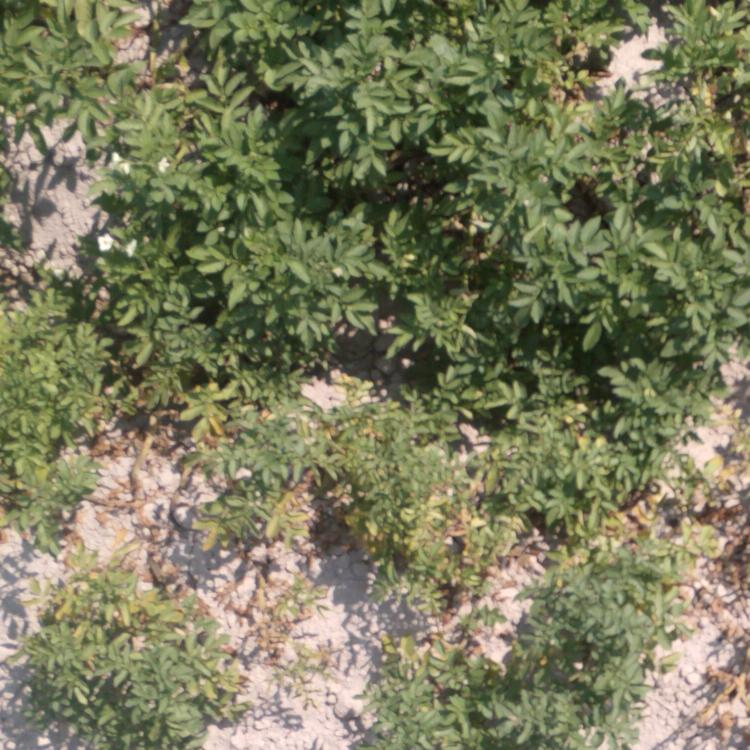healthy: (121, 102, 301, 362), (313, 119, 487, 387), (178, 2, 552, 107), (516, 212, 722, 373), (653, 1, 744, 191), (11, 15, 107, 129), (498, 122, 639, 197)
stressed: (14, 561, 229, 740), (316, 405, 501, 611), (520, 524, 651, 744), (1, 293, 112, 537), (140, 373, 296, 540), (524, 390, 655, 511), (346, 636, 496, 740), (697, 483, 744, 727)
